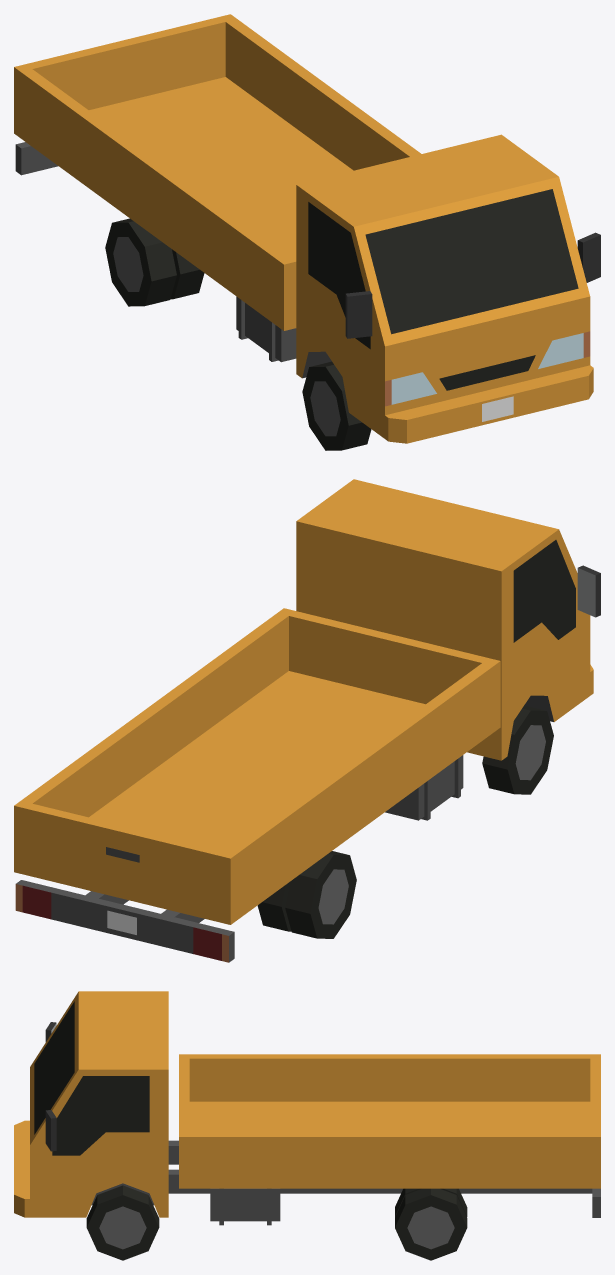
Rendered from Veh_Truck_02_Flat_Yellow.glb.
The picture shows the model from 3 angles, top to bottom: view 1: azimuth 30°, elevation 25°; view 2: azimuth 150°, elevation 25°; view 3: azimuth 270°, elevation 25°; orthographic projection. The views are drawn at different scales.
Parts seen in each view (by area): view 1: Truck_02_Flat_Yellow, Wheel_RR, Wheel_FR; view 2: Truck_02_Flat_Yellow, Wheel_RR, Wheel_FR; view 3: Truck_02_Flat_Yellow, Wheel_RL, Wheel_FL.
Part boxes in pixels (<box>): Truck_02_Flat_Yellow: <box>14,14,600,443</box>; Wheel_RR: <box>105,218,204,306</box>; Wheel_FR: <box>302,361,371,450</box>; Truck_02_Flat_Yellow: <box>14,479,600,962</box>; Wheel_RR: <box>257,851,356,938</box>; Wheel_FR: <box>482,705,553,794</box>; Truck_02_Flat_Yellow: <box>14,991,600,1225</box>; Wheel_RL: <box>395,1188,467,1260</box>; Wheel_FL: <box>86,1185,159,1260</box>.
Size of the model in its own units: 1.27 by 1.17 by 3.26.
1 material, 1 textured.
